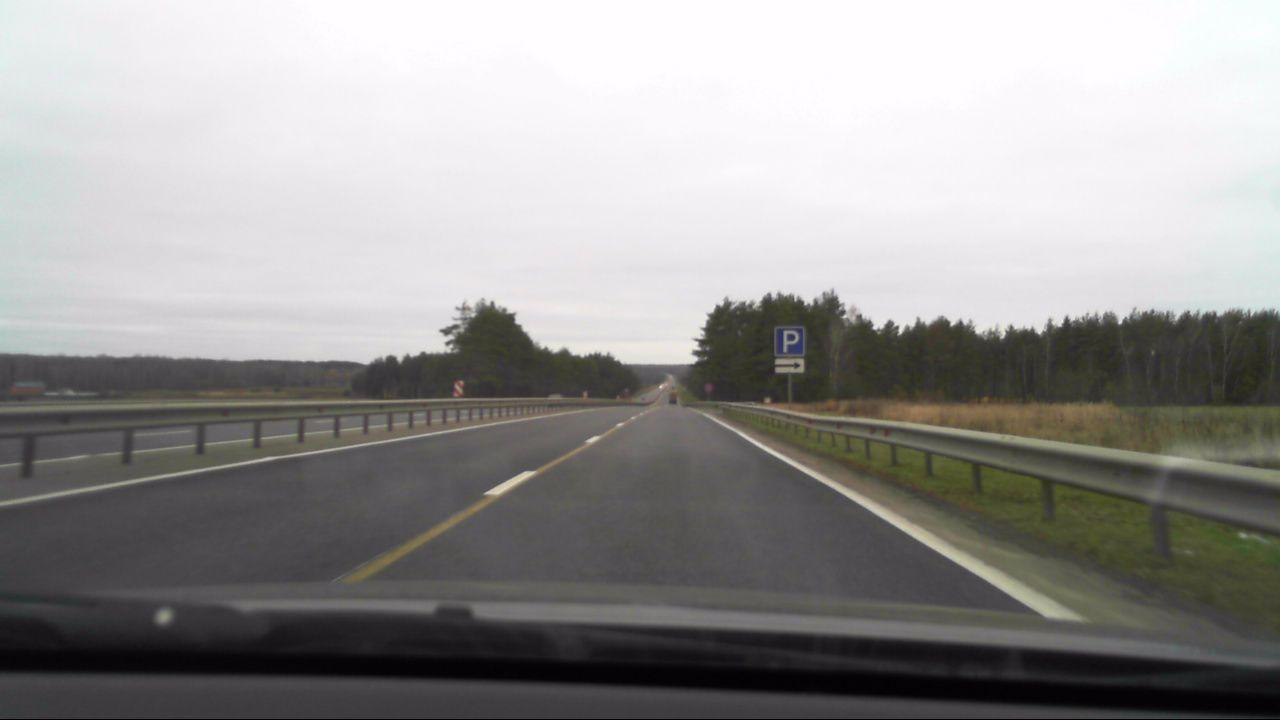6_4: (773, 325, 805, 356)
8_22_1: (454, 378, 466, 399)
8_3_1: (773, 358, 806, 374)
